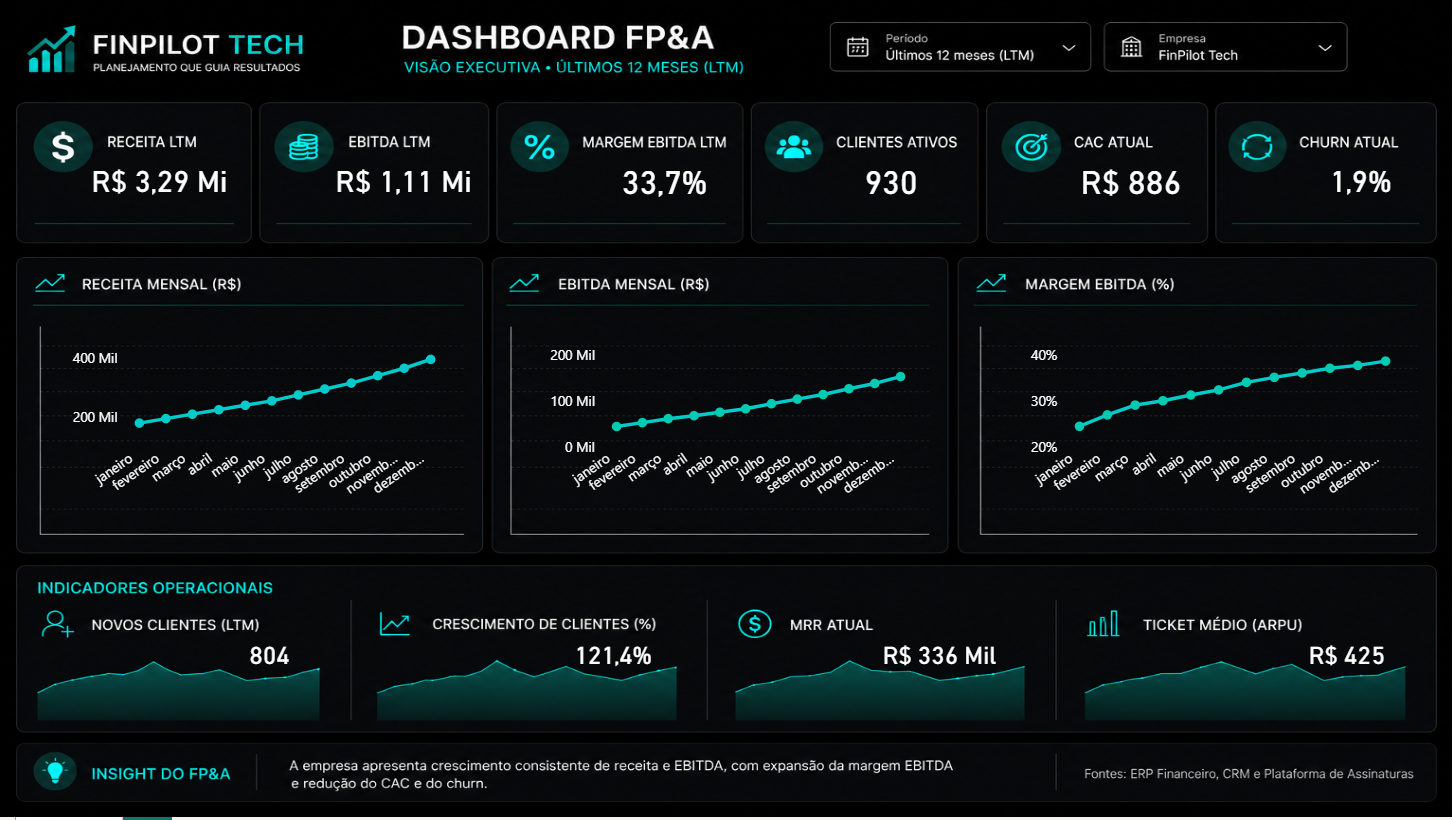

This screenshot's page, from the dashboard's own definition file:
{"tool":"powerbi","page":{"name":"Página 1","canvas":[1280,720],"ordinal":0},"visuals":[{"type":"card","fields":{"Values":["Dados_Financeiros.Receita LTM"]},"box":[69.8,138.4,144.2,41.9],"z":0},{"type":"card","fields":{"Values":["Dados_Financeiros.EBITDA LTM"]},"box":[288.4,138.4,136,41.9],"z":1},{"type":"card","fields":{"Values":["Dados_Financeiros.Margem EBITDA LTM"]},"box":[517.4,138.4,136,41.9],"z":2},{"type":"card","fields":{"Values":["Dados_Financeiros.Clientes Ativos"]},"box":[717.4,138.4,136,41.9],"z":3},{"type":"card","fields":{"Values":["Dados_Financeiros.CAC Médio"]},"box":[927.9,138.4,136,41.9],"z":4},{"type":"card","fields":{"Values":["Dados_Financeiros.Churn"]},"box":[1125.6,138.4,144.2,41.9],"z":5},{"type":"card","fields":{"Values":["Dados_Financeiros.Novos Clientes LTM"]},"box":[165.1,559.3,146.5,34.9],"z":6},{"type":"card","fields":{"Values":["Dados_Financeiros.Crescimento Clientes %"]},"box":[467.4,559.3,146.5,34.9],"z":7},{"type":"card","fields":{"Values":["Dados_Financeiros.MRR Atual"]},"box":[754.7,559.3,146.5,34.9],"z":8},{"type":"card","fields":{"Values":["Dados_Financeiros.ARPU"]},"box":[1112.8,559.3,146.5,34.9],"z":9},{"type":"lineChart","fields":{"Category":["Dados_Financeiros.Mes.Variation.Hierarquia de datas.Mês"],"Y":["Sum(Dados_Financeiros.Receita)"]},"box":[59.3,298.8,334.9,150],"z":10},{"type":"lineChart","fields":{"Category":["Dados_Financeiros.Mes.Variation.Hierarquia de datas.Mês"],"Y":["Sum(Dados_Financeiros.EBITDA)"]},"box":[479.1,298.8,327.9,150],"z":11},{"type":"lineChart","fields":{"Category":["Dados_Financeiros.Mes.Variation.Hierarquia de datas.Mês"],"Y":["Dados_Financeiros.Margem EBITDA Grafico"]},"box":[893,298.8,341.9,150],"z":12}]}

Visuals, with their boxes in screenshot pixels (x1, y1, x2, y2), scaled from the page's 1280x720 canvas onto the 1452x820 screenshot:
card - Dados_Financeiros.Receita LTM: bbox=[79, 158, 243, 205]
card - Dados_Financeiros.EBITDA LTM: bbox=[327, 158, 481, 205]
card - Dados_Financeiros.Margem EBITDA LTM: bbox=[587, 158, 741, 205]
card - Dados_Financeiros.Clientes Ativos: bbox=[814, 158, 968, 205]
card - Dados_Financeiros.CAC Médio: bbox=[1053, 158, 1207, 205]
card - Dados_Financeiros.Churn: bbox=[1277, 158, 1440, 205]
card - Dados_Financeiros.Novos Clientes LTM: bbox=[187, 637, 353, 677]
card - Dados_Financeiros.Crescimento Clientes %: bbox=[530, 637, 696, 677]
card - Dados_Financeiros.MRR Atual: bbox=[856, 637, 1022, 677]
card - Dados_Financeiros.ARPU: bbox=[1262, 637, 1429, 677]
lineChart - Dados_Financeiros.Mes.Variation.Hierarquia de datas.Mês x Sum(Dados_Financeiros.Receita): bbox=[67, 340, 447, 511]
lineChart - Dados_Financeiros.Mes.Variation.Hierarquia de datas.Mês x Sum(Dados_Financeiros.EBITDA): bbox=[543, 340, 915, 511]
lineChart - Dados_Financeiros.Mes.Variation.Hierarquia de datas.Mês x Dados_Financeiros.Margem EBITDA Grafico: bbox=[1013, 340, 1401, 511]
